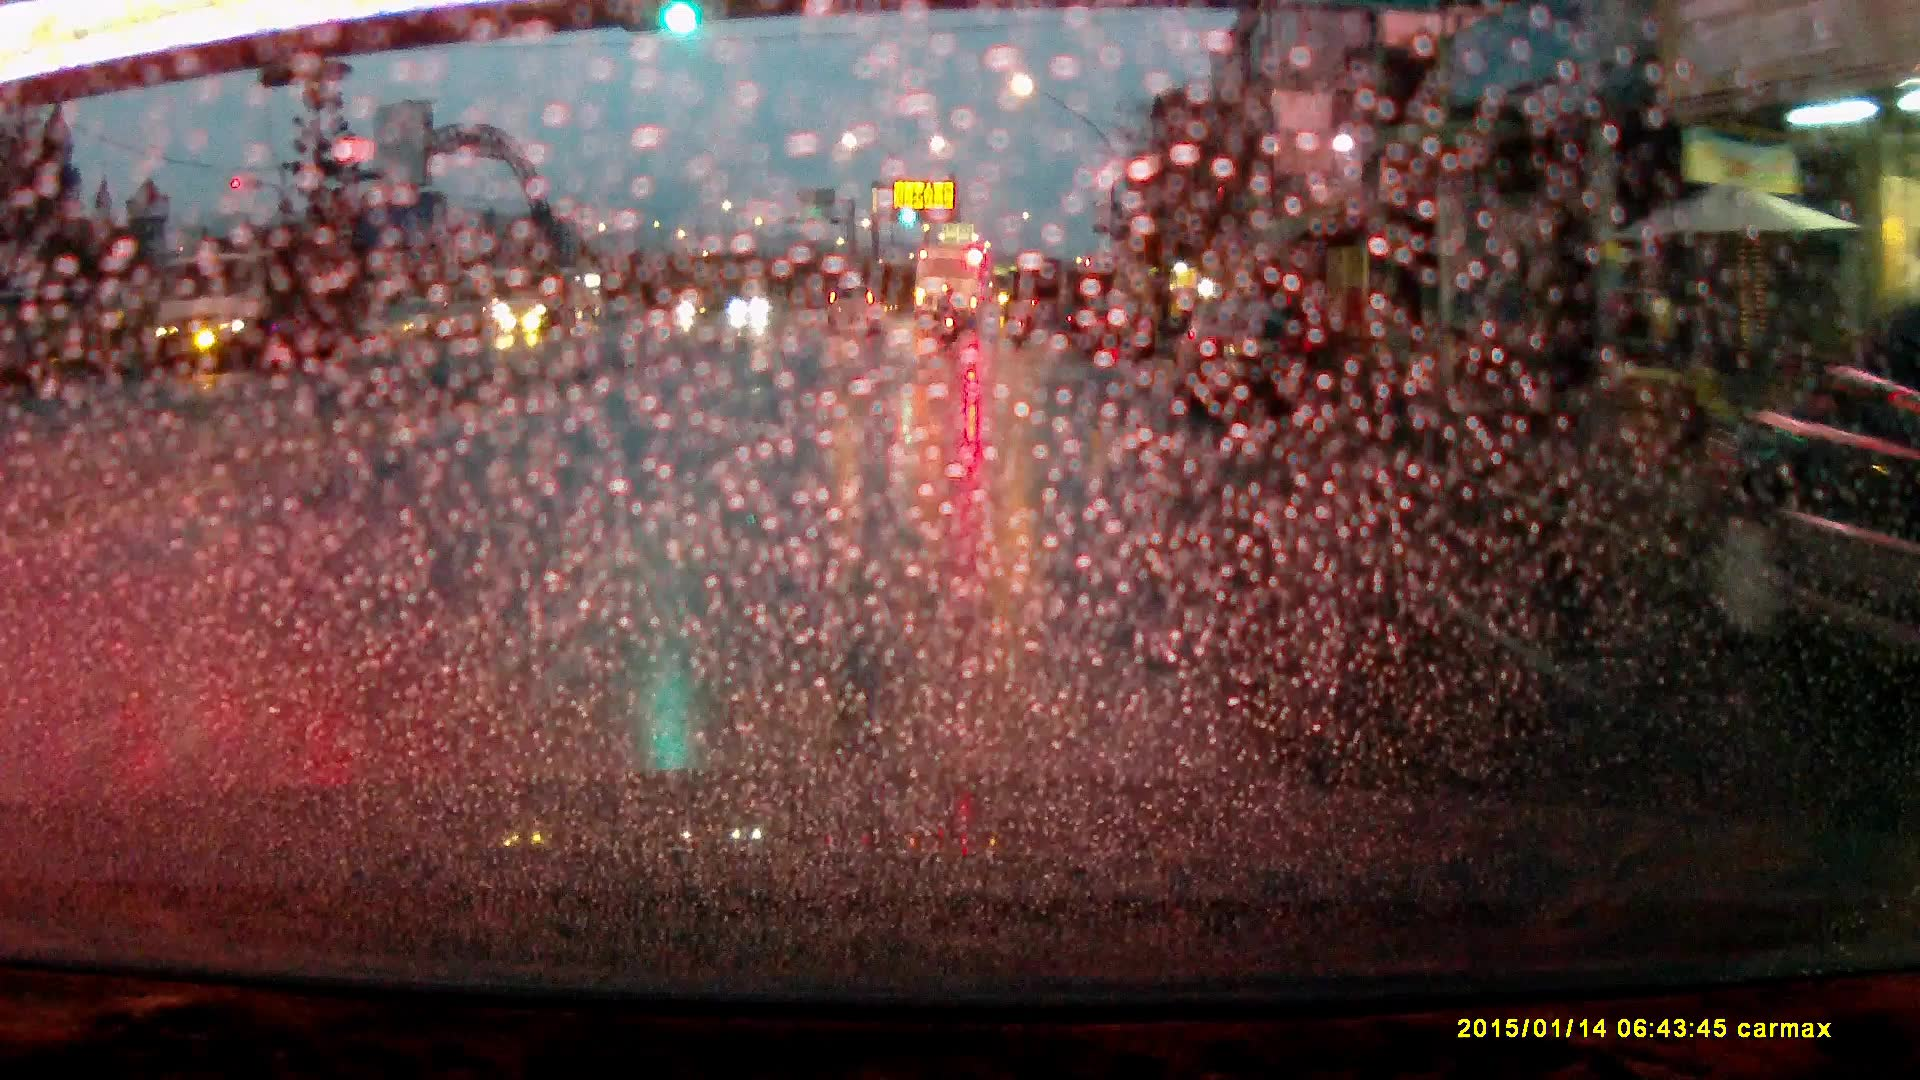rider: (940, 286, 967, 347)
vehicle: (1727, 360, 1920, 682), (147, 251, 351, 375), (1168, 310, 1324, 408), (497, 263, 593, 338), (914, 248, 982, 330), (1080, 300, 1153, 357), (827, 286, 885, 333), (730, 293, 775, 321)
